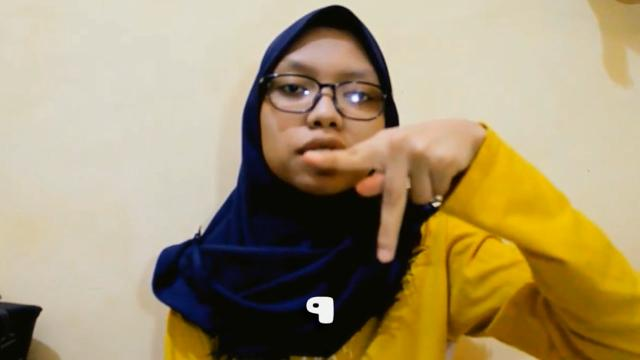P: (300, 113, 478, 265)
